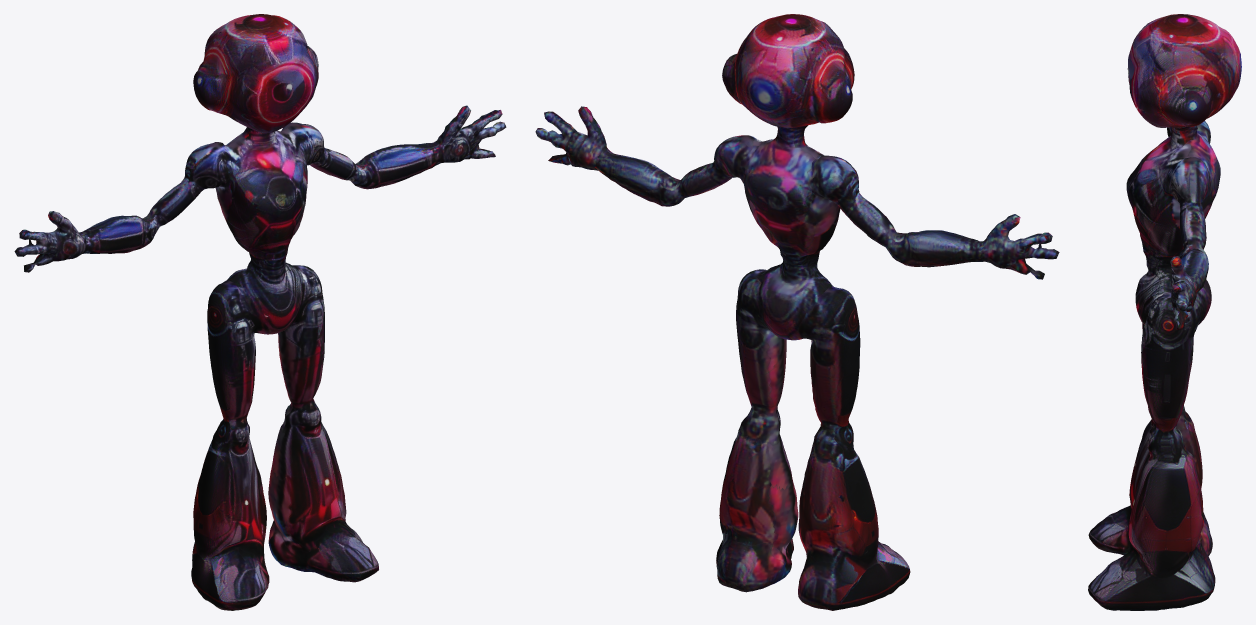
The model's file is robot-red.glb.
3 renders of one model, left to right at view 1: azimuth 30°, elevation 25°; view 2: azimuth 150°, elevation 25°; view 3: azimuth 270°, elevation 25°, orthographic. The views are drawn at different scales.
Bounding box in the file's own units: 0.9438 × 1 × 0.2508.
1 material, 1 textured.
